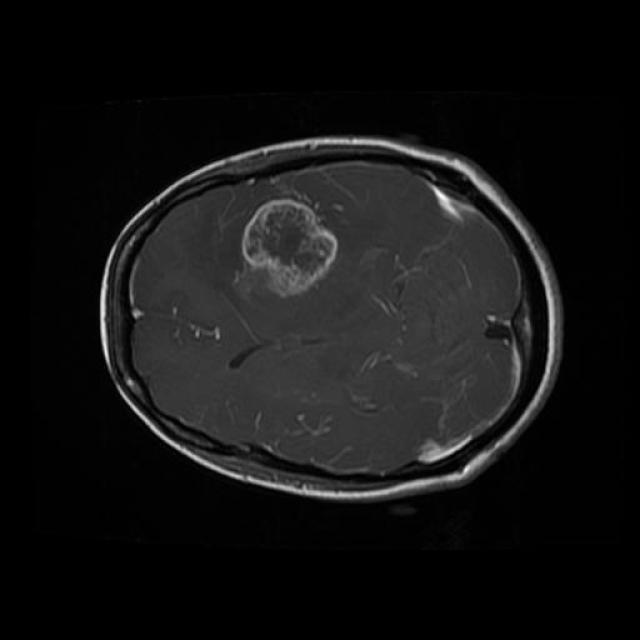Glioma: (241, 198, 337, 295)
